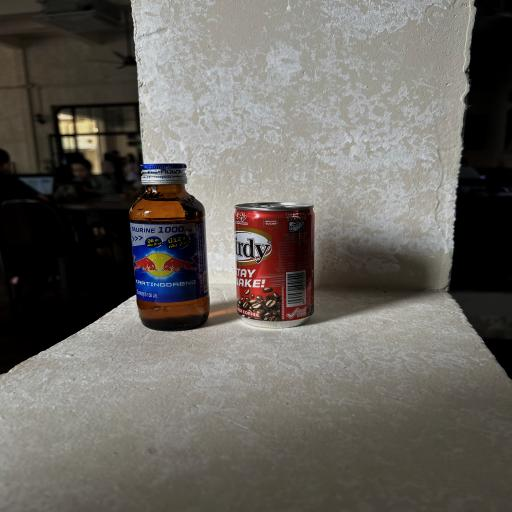birdy: (226, 200, 321, 329)
bo_huc: (124, 160, 214, 336)
